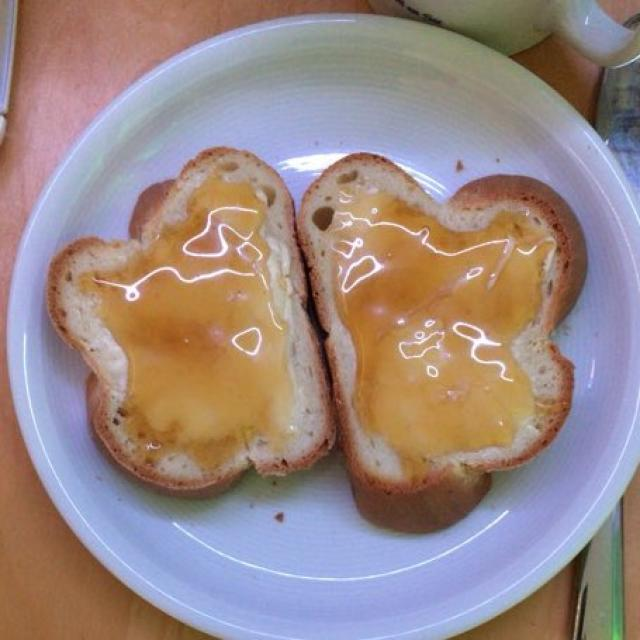braided-white-loaf: (62, 146, 573, 509)
honey: (93, 184, 534, 480)
